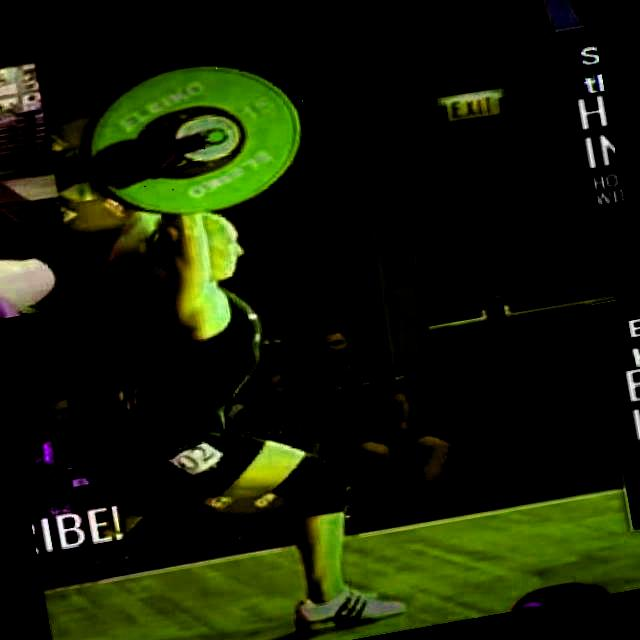barbell: (64, 35, 335, 251)
